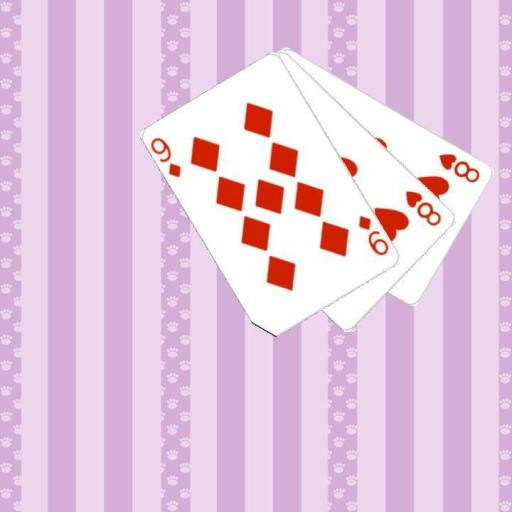card-corner: (402, 187, 444, 228), (355, 212, 391, 257), (148, 134, 183, 179), (436, 150, 482, 184)
